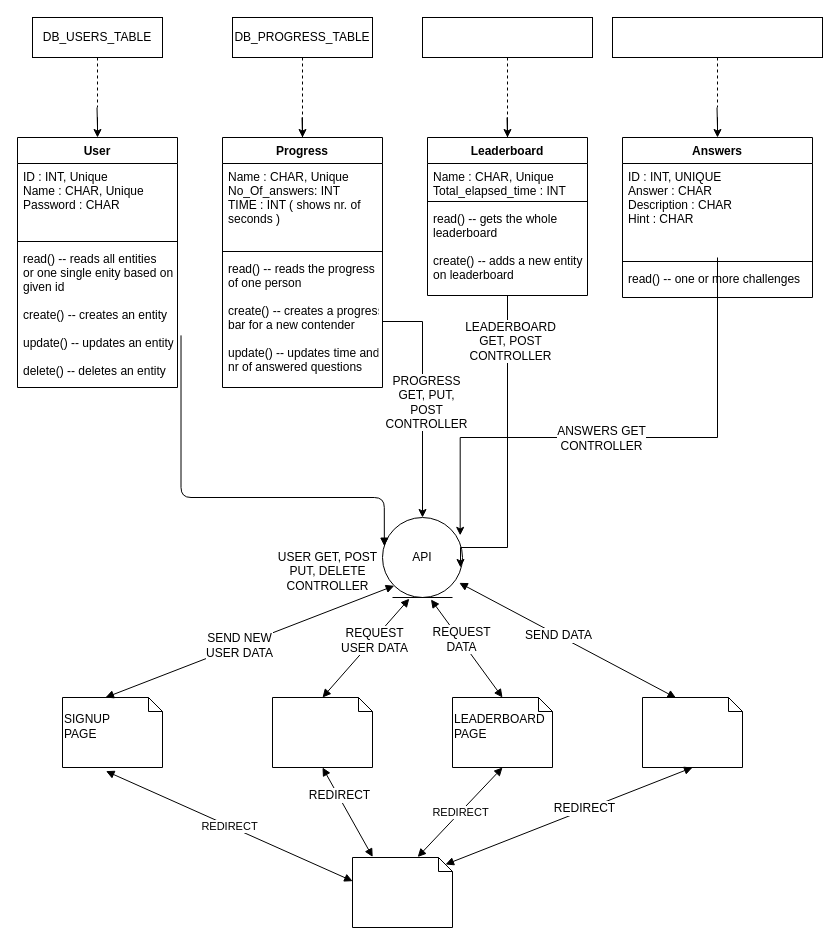
This 840x945 diagram has some shape labels left out. The shapes that lost their labels are listed below. From the top down, each one's centre as x and y in pixels, then its label:
At [507,67]: "DB_LEADERBOARD_TABLE".
At [717,62]: "DB_ANSWERS&QUESTIONS_TABLE".
At [322,732]: "LOGIN PAGE".
At [692,732]: "CHALLENGE PAGE".
At [402,892]: "WELCOMING PAGE".
